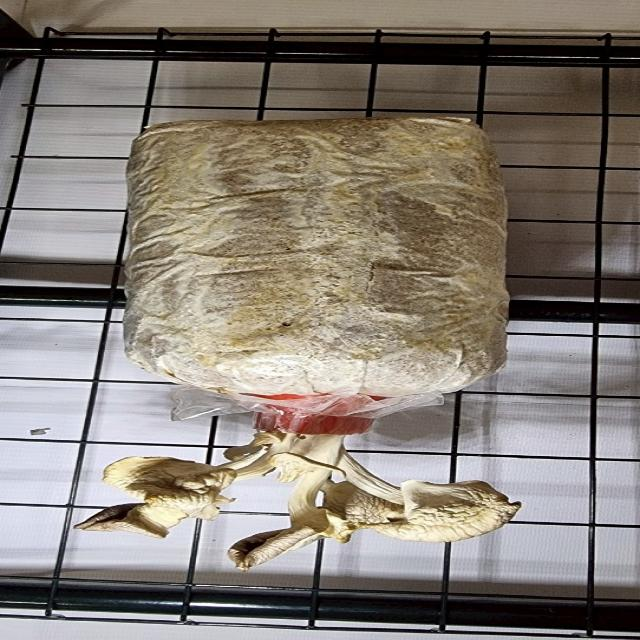abnormal: (372, 476, 525, 540), (221, 504, 360, 564), (65, 497, 216, 545), (89, 451, 242, 495)
